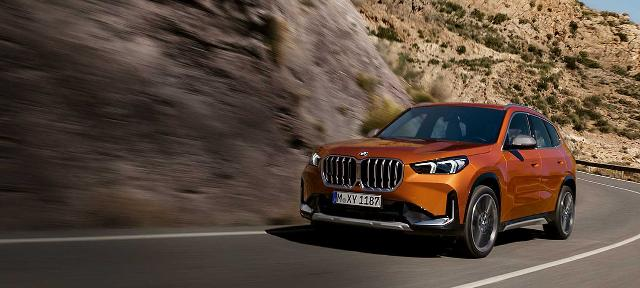bmw: (299, 102, 576, 258)
